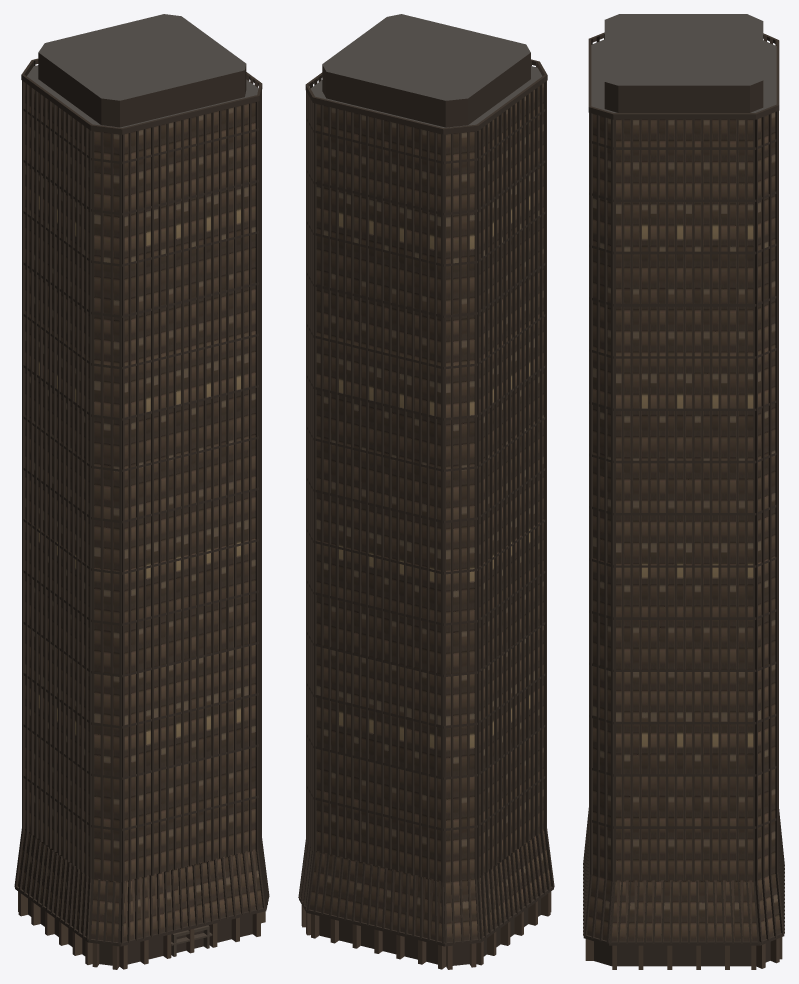
The model's file is mckesson_plaza_one_post.glb.
3 views of the same model, side by side, from view 1: azimuth 30°, elevation 25°; view 2: azimuth 150°, elevation 25°; view 3: azimuth 270°, elevation 25° (orthographic).
Parts seen in each view (by area): view 1: mckesson_plaza_one_post; view 2: mckesson_plaza_one_post; view 3: mckesson_plaza_one_post.
Part boxes in pixels (<box>): mckesson_plaza_one_post: <box>14,14,269,969</box>; mckesson_plaza_one_post: <box>298,14,554,969</box>; mckesson_plaza_one_post: <box>583,14,784,969</box>.
Bounding box in the file's own units: 35.63 × 161 × 33.63.
2 materials, 2 textured.
